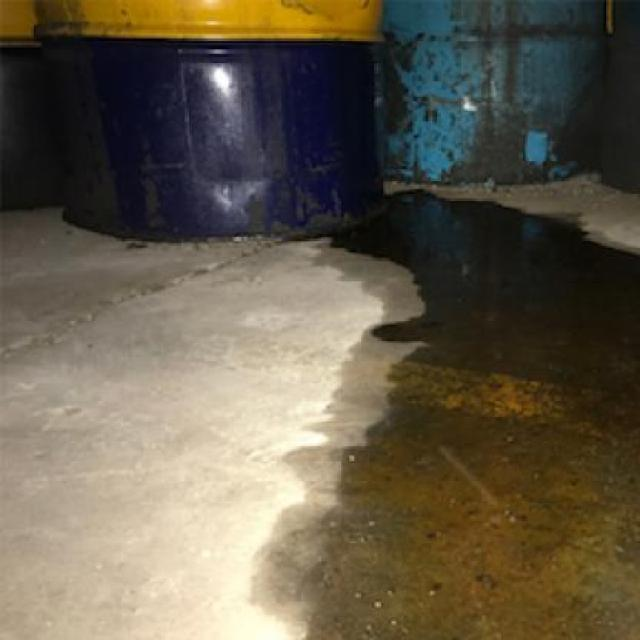spillage: (266, 196, 640, 640)
